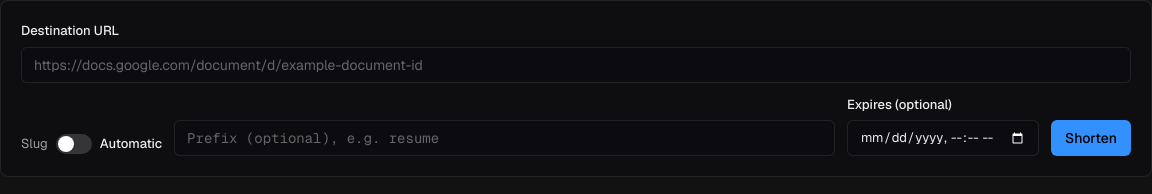
Test: CreateForm slug modes › shows custom slug input only in custom mode
Expected: the field named "prefix for generated slug" is shown, [174,120,835,156]
Click the switch named "toggle custom slug". click: (74,144)
box: [56,134,92,154]
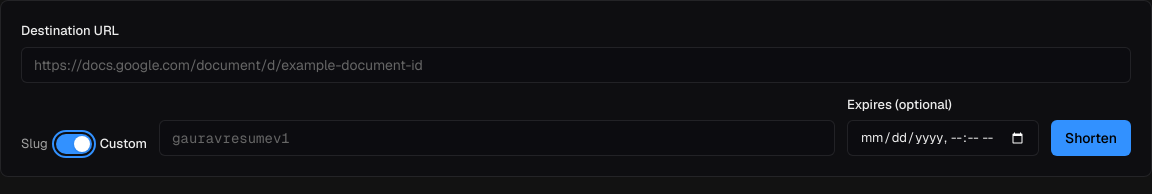
Now the field named "Custom slug" is shown, box [159,120,835,156]
